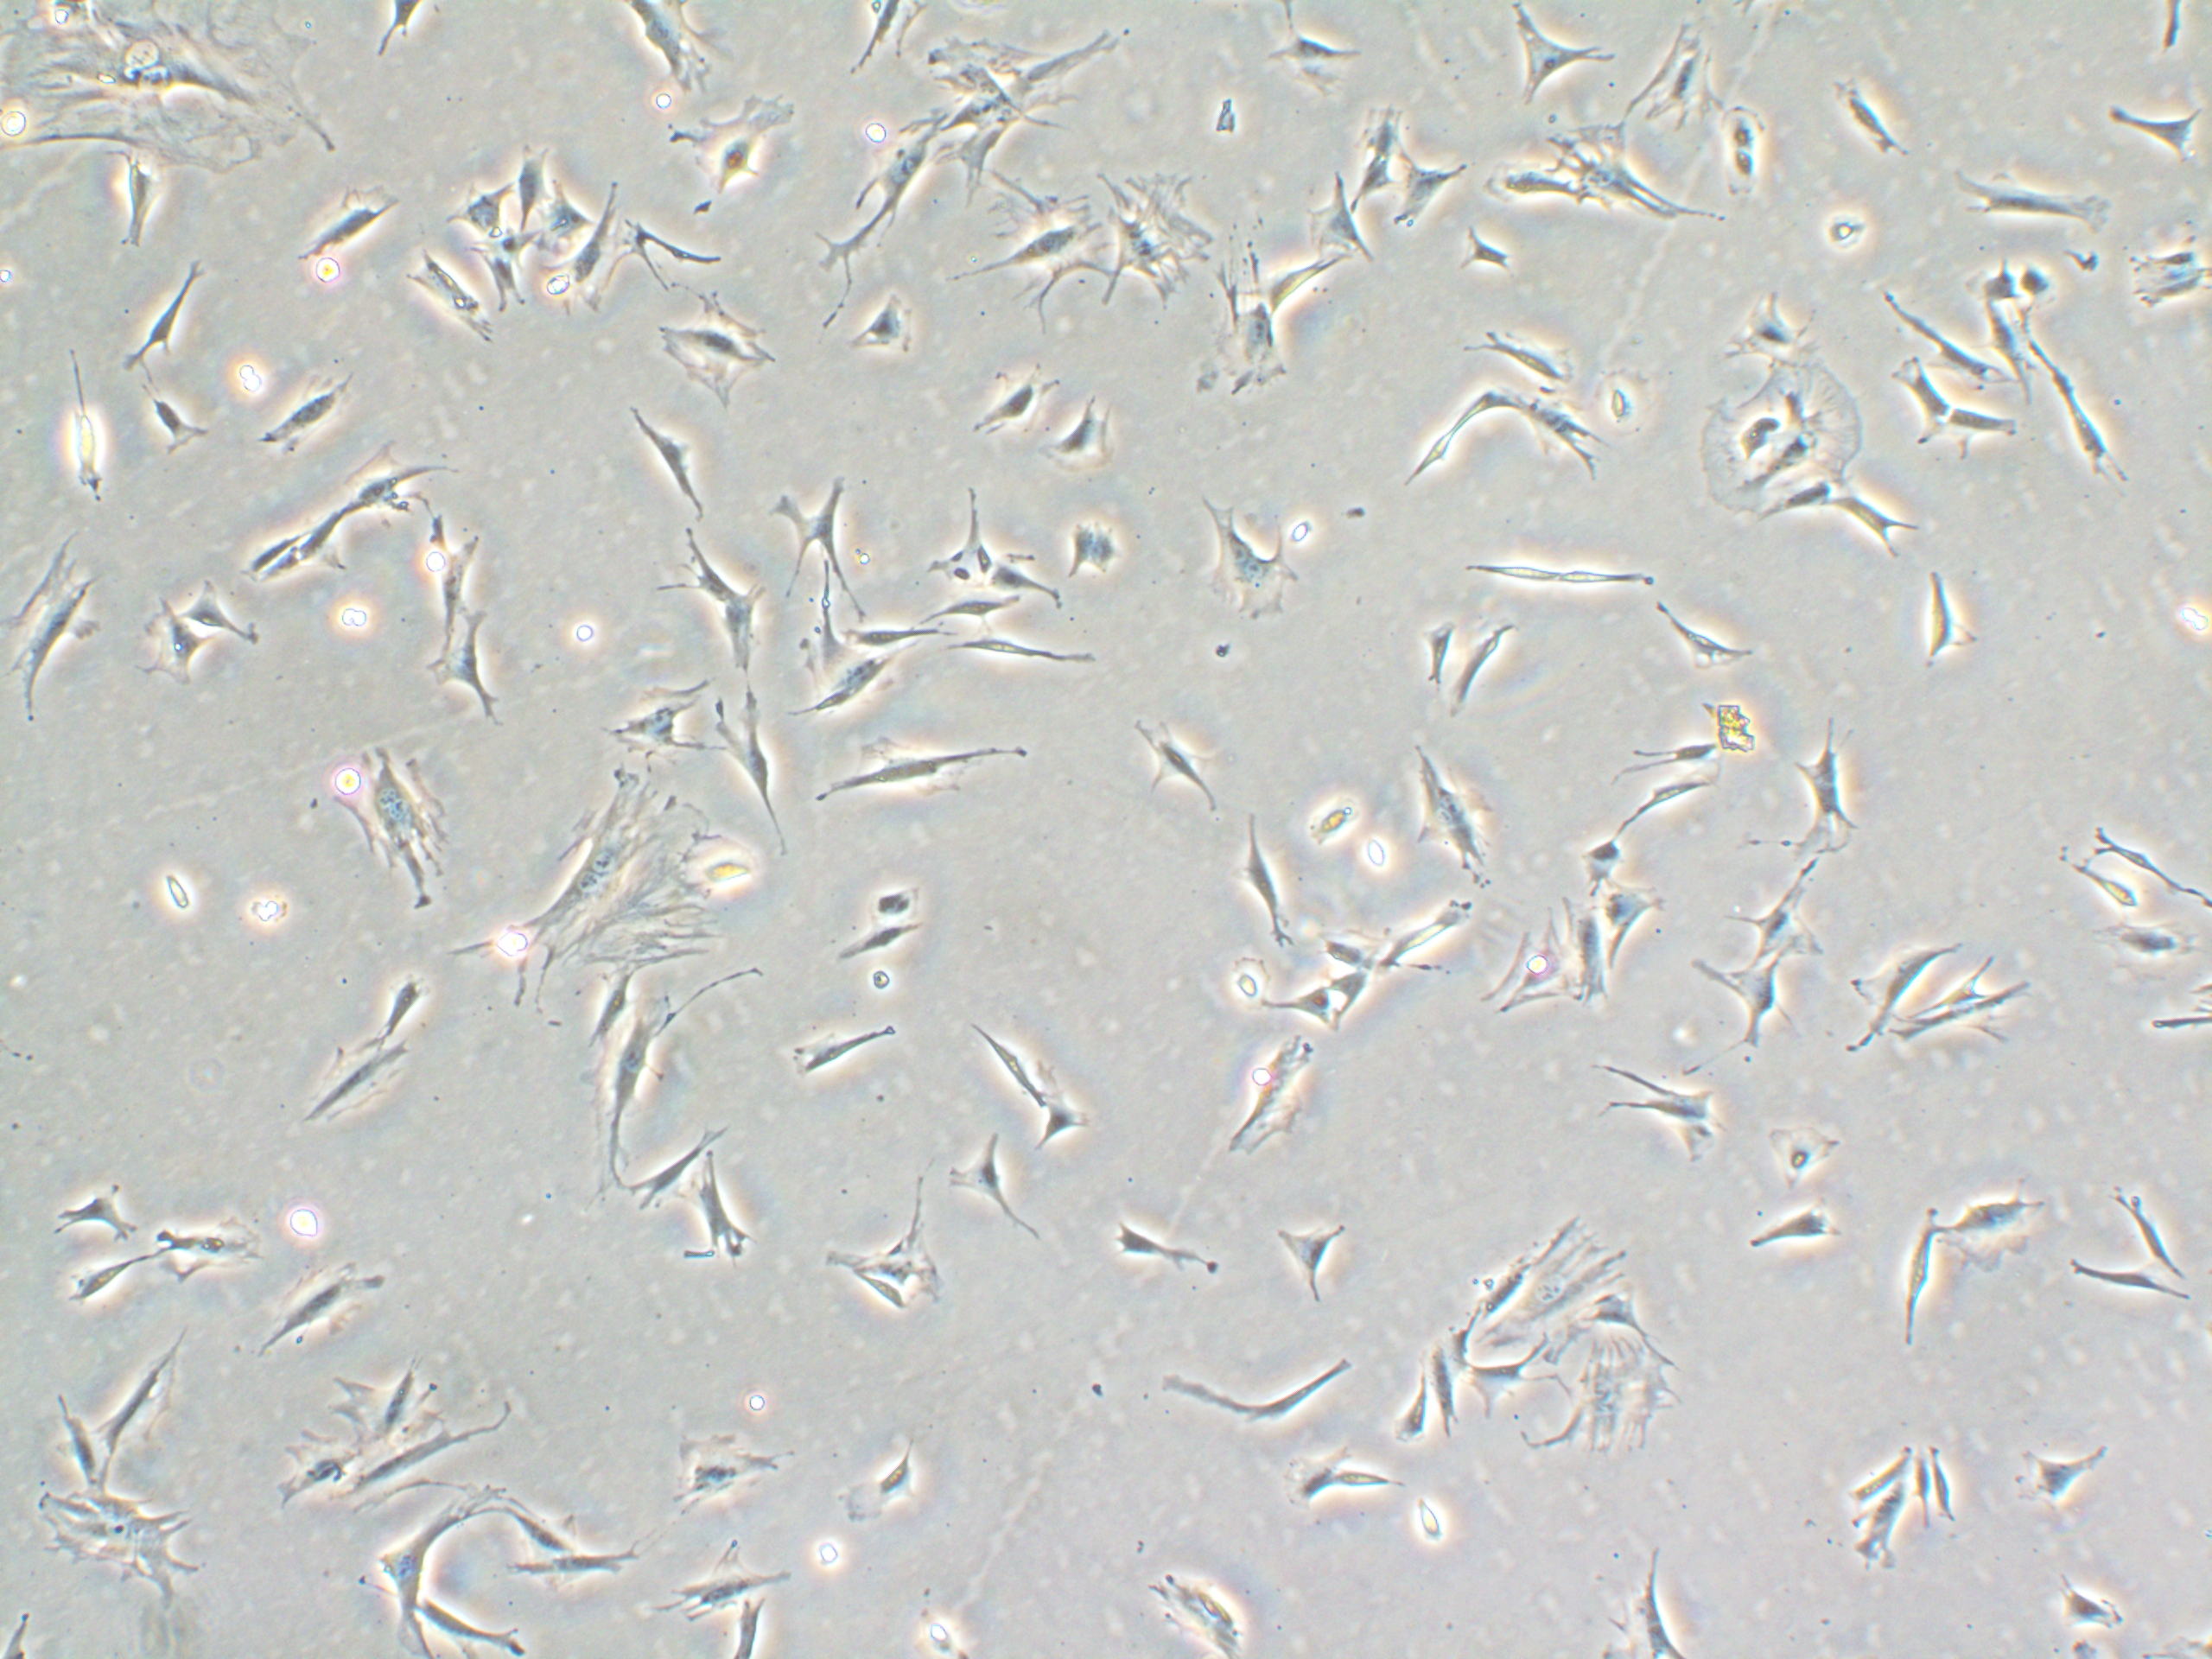Etc: (1421, 537, 1564, 591), (1637, 763, 1738, 828), (2050, 847, 2148, 911), (1548, 547, 1660, 603)
polygonal: (575, 993, 716, 1208), (805, 721, 1038, 829), (347, 1493, 498, 1657), (1552, 1040, 1747, 1166), (1933, 138, 2135, 242), (84, 1317, 207, 1480), (273, 1026, 427, 1150), (932, 1121, 1057, 1269), (1890, 936, 2048, 1053), (1106, 699, 1235, 840), (1397, 734, 1508, 896), (711, 676, 805, 866), (347, 1406, 528, 1502), (1843, 938, 1980, 1063), (1782, 701, 1878, 878), (1871, 282, 2006, 397), (261, 1251, 402, 1361), (1683, 946, 1808, 1068), (2045, 350, 2139, 511), (113, 244, 218, 382), (1238, 1340, 1369, 1446), (1811, 68, 1935, 178), (2083, 896, 2212, 1000), (1491, 0, 1606, 117), (538, 178, 631, 322), (1245, 1206, 1357, 1324), (1724, 854, 1836, 972), (615, 399, 725, 518), (759, 1018, 932, 1093), (770, 460, 862, 592), (2001, 1436, 2134, 1528), (442, 601, 523, 748), (489, 1539, 651, 1610), (1900, 551, 1987, 681), (287, 178, 402, 275), (1096, 1209, 1230, 1293), (672, 1535, 798, 1624), (2097, 1168, 2189, 1288), (256, 373, 380, 462), (1449, 317, 1587, 396), (143, 1213, 270, 1297), (834, 1424, 927, 1537), (2106, 75, 2212, 173), (338, 439, 465, 519), (268, 1427, 364, 1534), (331, 1371, 448, 1457), (1294, 162, 1383, 274), (1228, 807, 1296, 951), (678, 1152, 754, 1279), (125, 601, 216, 706), (1446, 606, 1529, 720), (1252, 21, 1367, 101), (35, 1176, 150, 1255), (563, 958, 657, 1054), (2069, 1249, 2203, 1316), (51, 1239, 164, 1317), (418, 518, 493, 634), (829, 282, 923, 373), (31, 1385, 111, 1492), (1033, 394, 1129, 483), (1935, 390, 2038, 472), (1651, 594, 1756, 674), (1026, 1046, 1101, 1157), (1623, 1537, 1691, 1659), (1599, 868, 1676, 976), (1893, 1195, 1942, 1364), (174, 573, 268, 660), (779, 659, 902, 723), (491, 1476, 592, 1554), (1404, 139, 1477, 246), (1728, 1204, 1848, 1269), (136, 378, 223, 467), (1979, 282, 2040, 408), (1268, 1441, 1357, 1527), (1888, 347, 1956, 457), (963, 364, 1052, 448), (655, 526, 747, 605), (462, 216, 531, 317), (897, 589, 1036, 640), (294, 486, 362, 587), (1928, 1422, 1982, 1547), (2045, 1563, 2130, 1642), (827, 917, 944, 972), (1557, 819, 1632, 901), (1566, 899, 1616, 1018), (1420, 1349, 1477, 1452), (1381, 1366, 1446, 1457), (974, 559, 1083, 612), (369, 957, 442, 1035), (442, 171, 521, 244), (1858, 1473, 1907, 1589), (500, 132, 554, 228), (1331, 962, 1393, 1042), (1310, 918, 1390, 981), (843, 619, 961, 660), (233, 519, 314, 580), (1484, 1340, 1540, 1427), (1261, 983, 1345, 1039), (862, 873, 942, 929), (1426, 1309, 1491, 1368), (1418, 599, 1454, 702), (1977, 251, 2020, 326), (1907, 1441, 1937, 1537)
small-round: (1583, 354, 1669, 450), (1759, 1114, 1850, 1195), (892, 1584, 972, 1659), (1296, 781, 1369, 854), (1402, 1492, 1475, 1560), (139, 856, 211, 924), (228, 880, 303, 945), (1818, 192, 1879, 265), (1217, 946, 1275, 1019), (1710, 141, 1766, 214), (2020, 247, 2069, 322), (1716, 99, 1777, 155), (803, 1527, 855, 1591)
spread: (458, 769, 737, 1007), (21, 0, 348, 183), (1689, 343, 1867, 545), (1482, 120, 1737, 242), (303, 732, 475, 908), (1458, 1197, 1630, 1366), (19, 1474, 212, 1615), (1911, 1138, 2088, 1272), (0, 521, 108, 734), (820, 1157, 951, 1331), (970, 176, 1118, 322), (1540, 1340, 1688, 1486), (669, 91, 831, 223), (1099, 166, 1226, 317), (1190, 504, 1336, 634), (637, 293, 787, 410), (1214, 275, 1336, 415), (650, 1410, 799, 1516), (1623, 3, 1728, 143), (596, 667, 719, 770)
